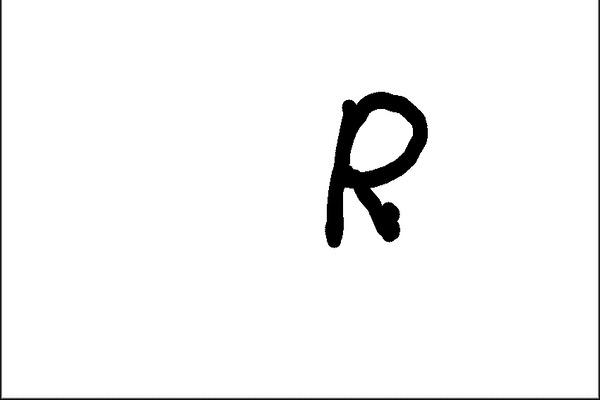R: (322, 86, 427, 249)
